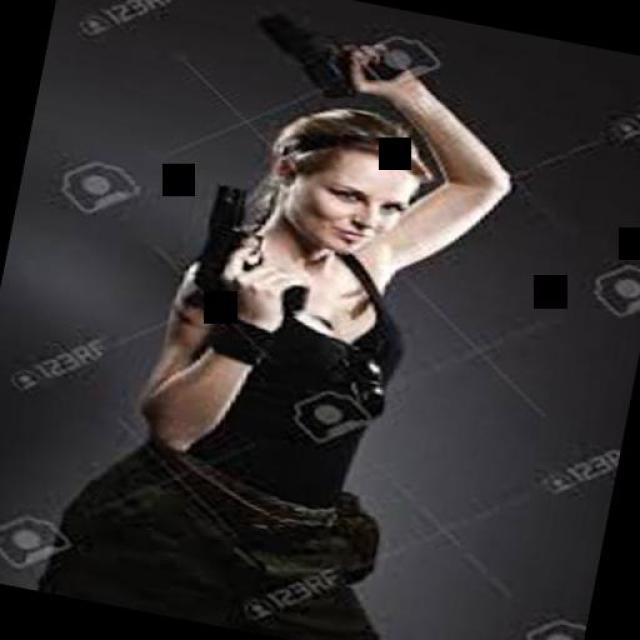gun: (238, 0, 418, 111), (192, 177, 322, 315)
